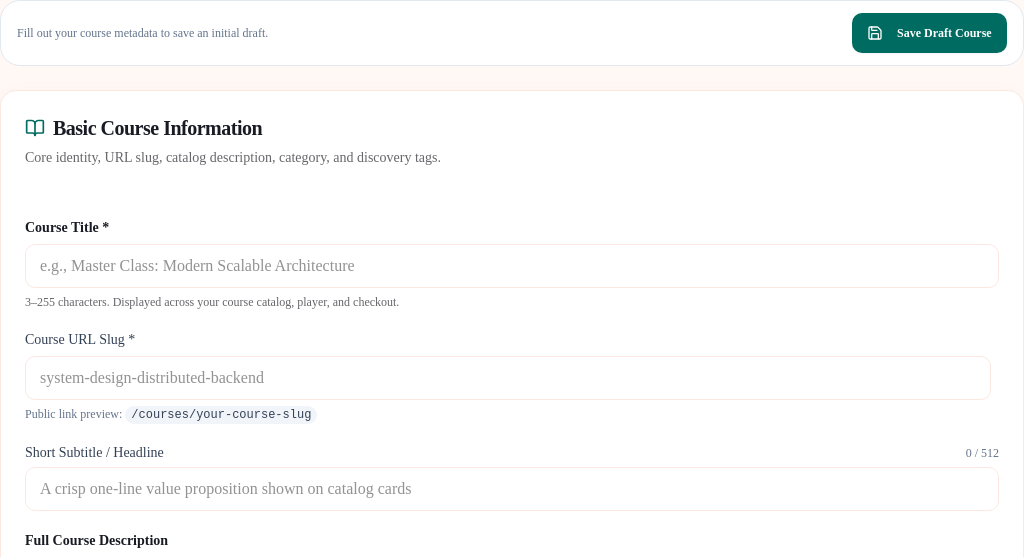
Test: Phase 1: CourseMetadataForm Component › blocks short/empty title submission and preserves user inputs on validation error
The image size is (1024, 557).
Type "Go" into the field labelled "Course Title *" at (512, 266), box left=25, top=244, right=999, bottom=288
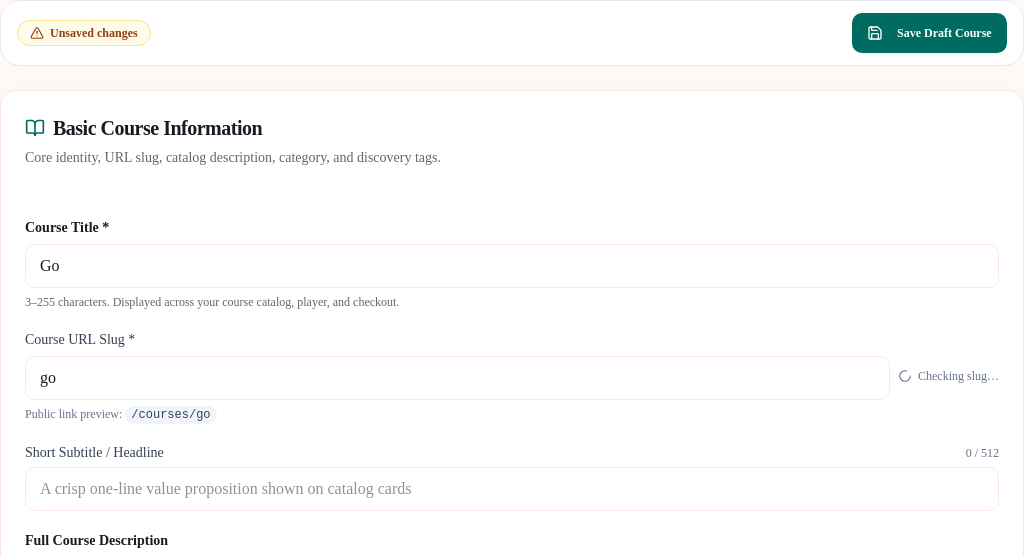
Type "Preserved headline text" into the field labelled "Short Subtitle / Headline" at (512, 489), box left=25, top=467, right=999, bottom=511
(page scrolled)
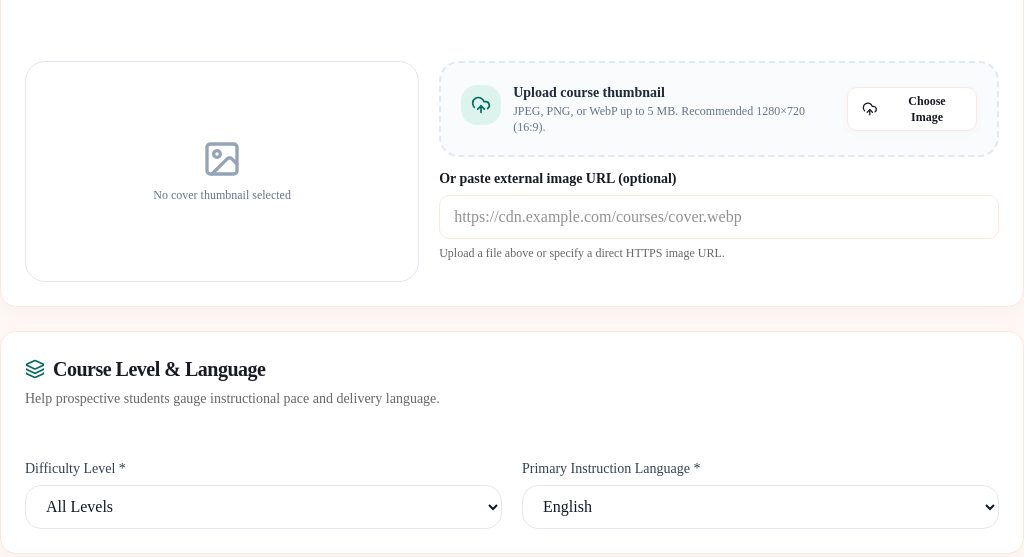
Submit the form named "Course Title"
(page scrolled)
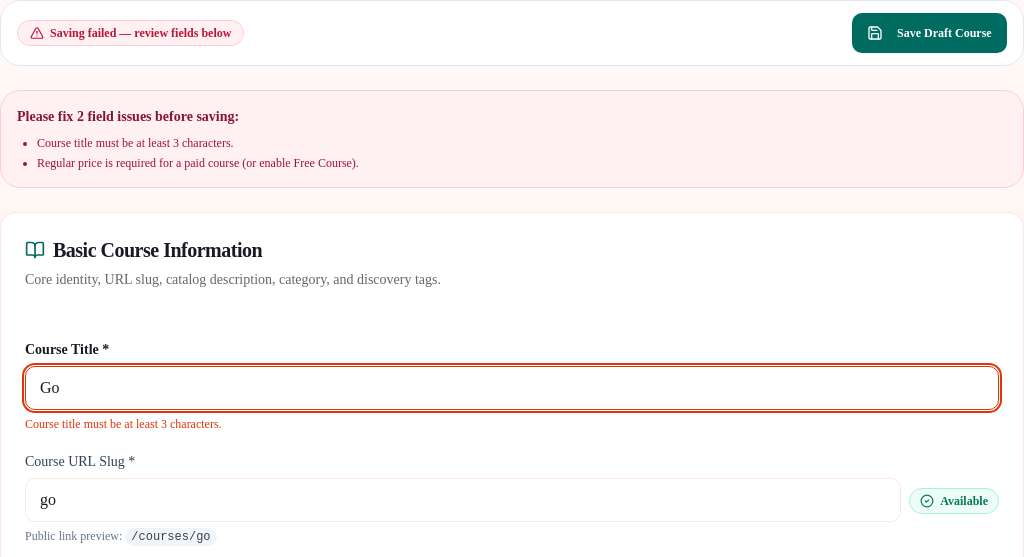
Check: the list item "Course title must be at least 3 characters." is shown, box left=37, top=136, right=234, bottom=150
